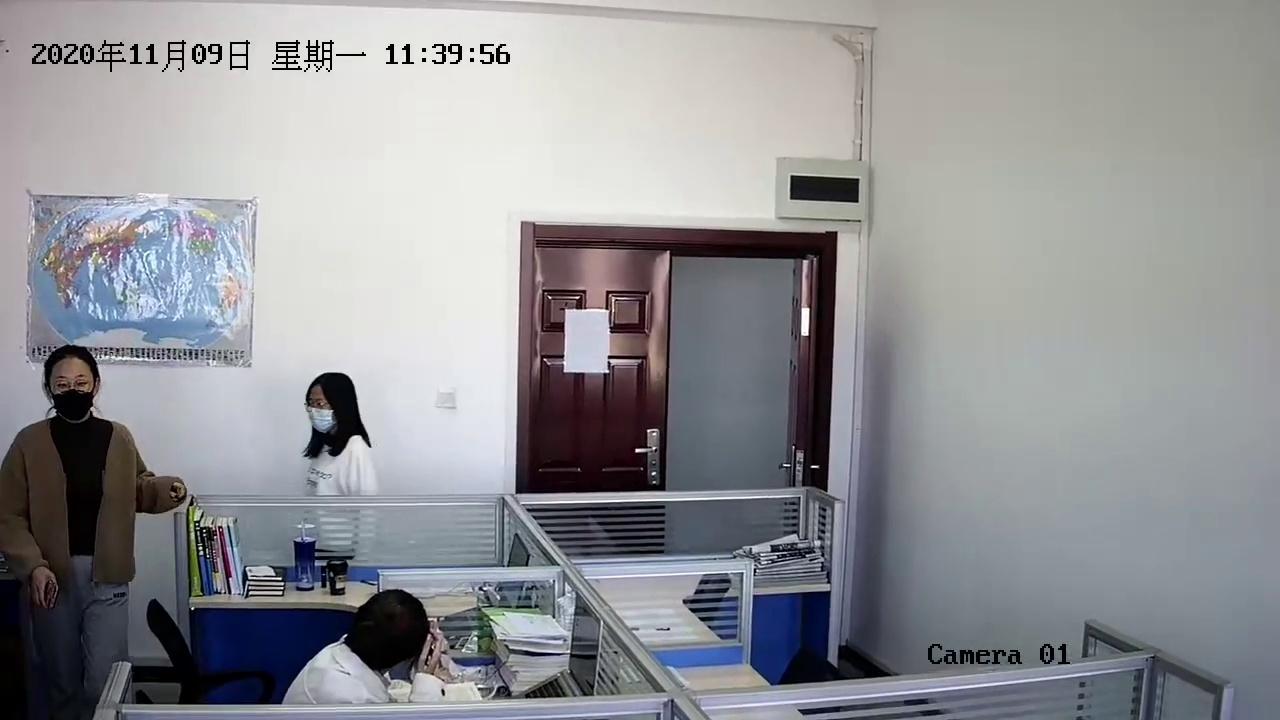mask: (48, 349, 97, 423), (305, 372, 352, 439)
